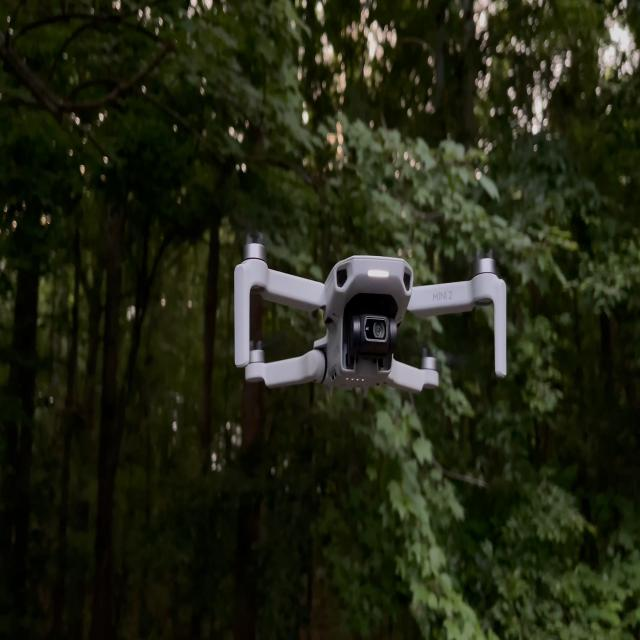Drone: (236, 239, 510, 391)
